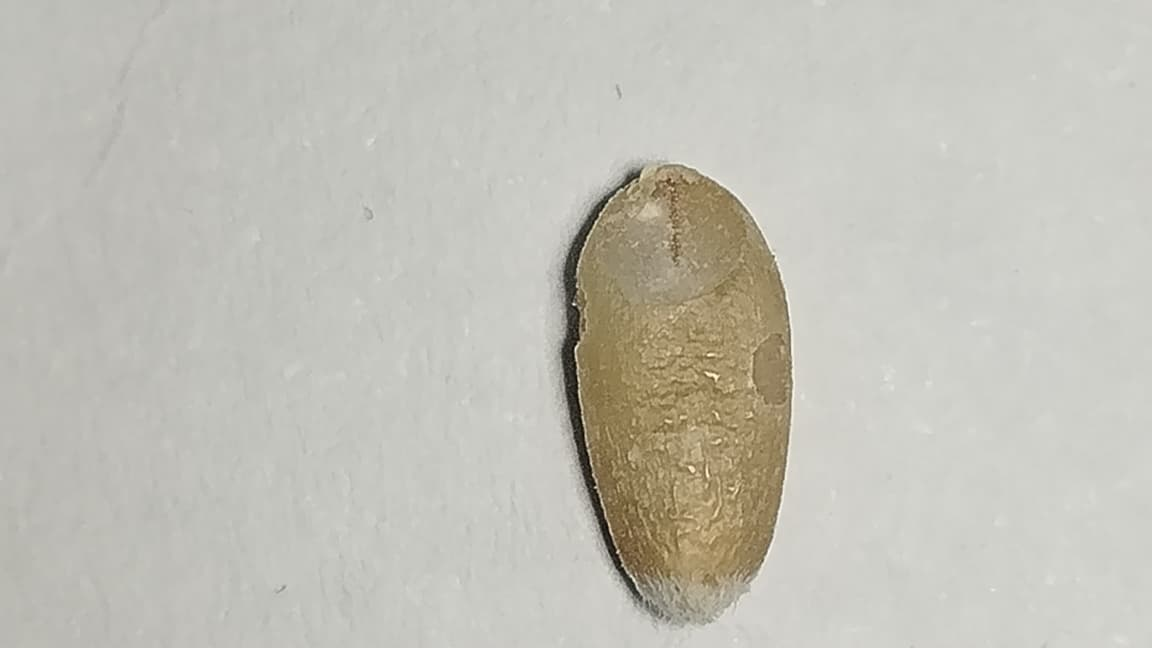damage: (575, 164, 792, 622)
insectdamage: (560, 256, 608, 372), (744, 326, 807, 414)
